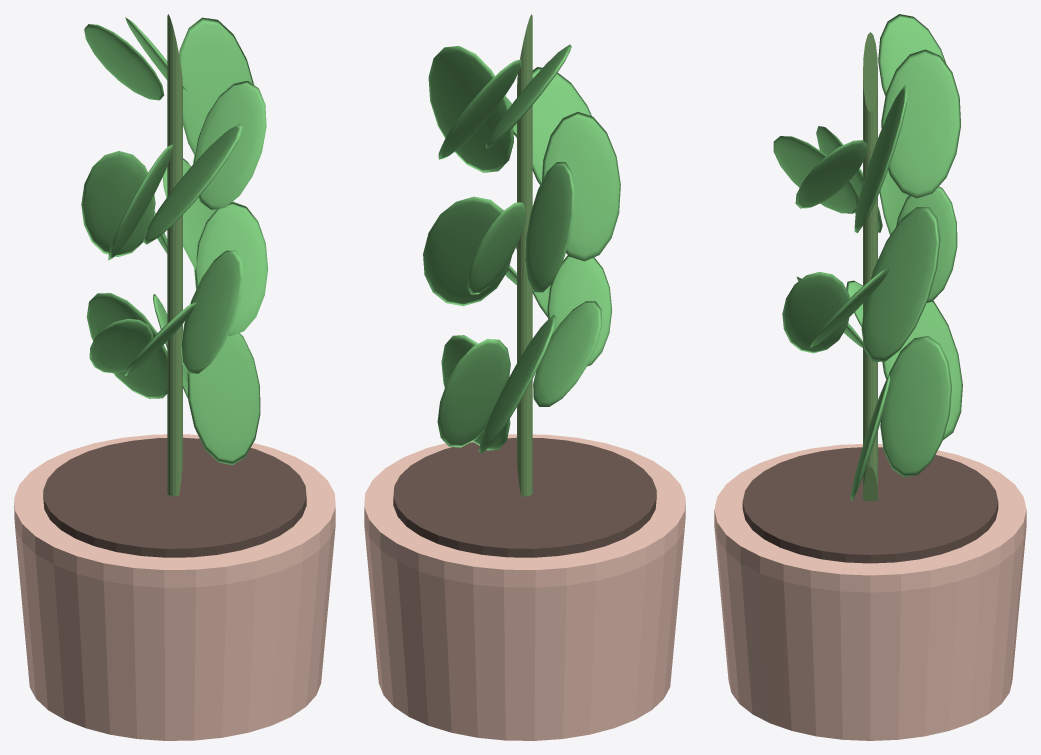
3 renders of one model, left to right at view 1: azimuth 30°, elevation 25°; view 2: azimuth 150°, elevation 25°; view 3: azimuth 270°, elevation 25°, orthographic. The views are drawn at different scales.
Parts seen in each view (by area): view 1: Pot_Complete, Leaves, Soil, Stem; view 2: Pot_Complete, Leaves, Soil, Stem; view 3: Pot_Complete, Leaves, Soil, Stem.
Part boxes in pixels (x1=…): Pot_Complete: x1=14, y1=434, x2=335, y2=740; Leaves: x1=81, y1=17, x2=268, y2=465; Soil: x1=43, y1=437, x2=306, y2=557; Stem: x1=167, y1=14, x2=182, y2=496; Pot_Complete: x1=364, y1=434, x2=685, y2=740; Leaves: x1=423, y1=44, x2=620, y2=453; Soil: x1=393, y1=437, x2=656, y2=557; Stem: x1=517, y1=14, x2=532, y2=496; Pot_Complete: x1=714, y1=444, x2=1026, y2=740; Leaves: x1=773, y1=14, x2=962, y2=501; Soil: x1=742, y1=447, x2=998, y2=563; Stem: x1=863, y1=32, x2=877, y2=500.
Size of the model in its own units: 0.33 by 0.7533 by 0.33.
